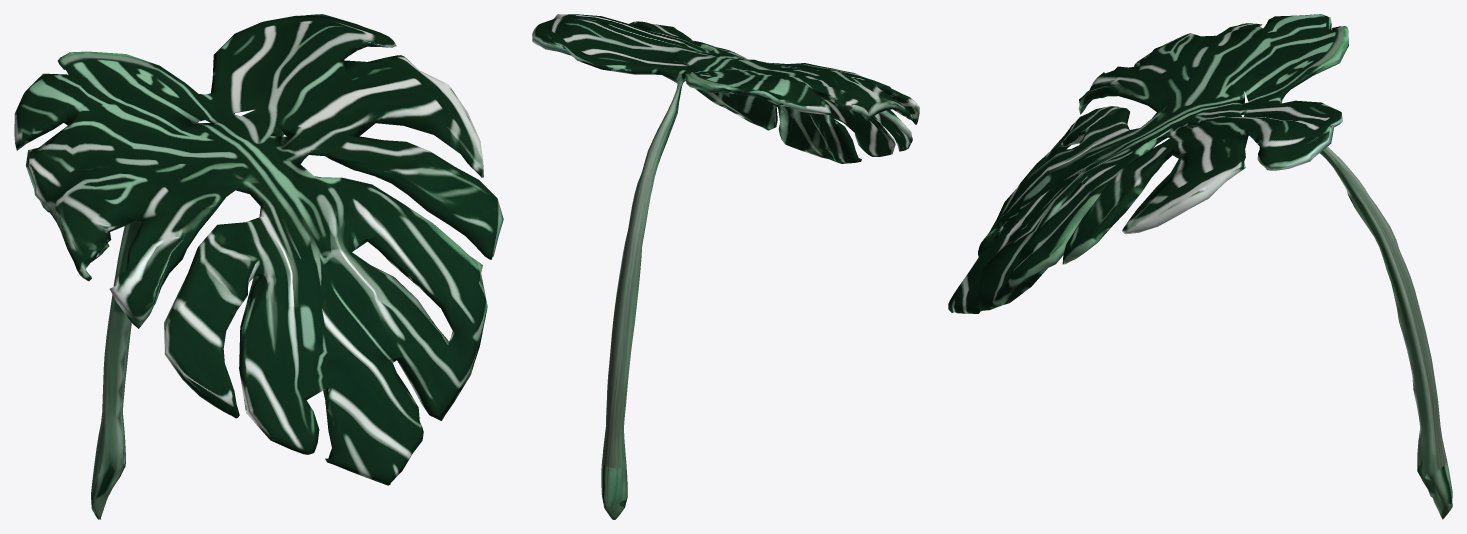
Rendered from mon_zebra_new.glb.
3 views of the same model, side by side, from view 1: azimuth 30°, elevation 25°; view 2: azimuth 150°, elevation 25°; view 3: azimuth 270°, elevation 25° (orthographic). The views are drawn at different scales.
Bounding box in the file's own units: 1.63 × 1.99 × 2.
1 material, 1 textured.
